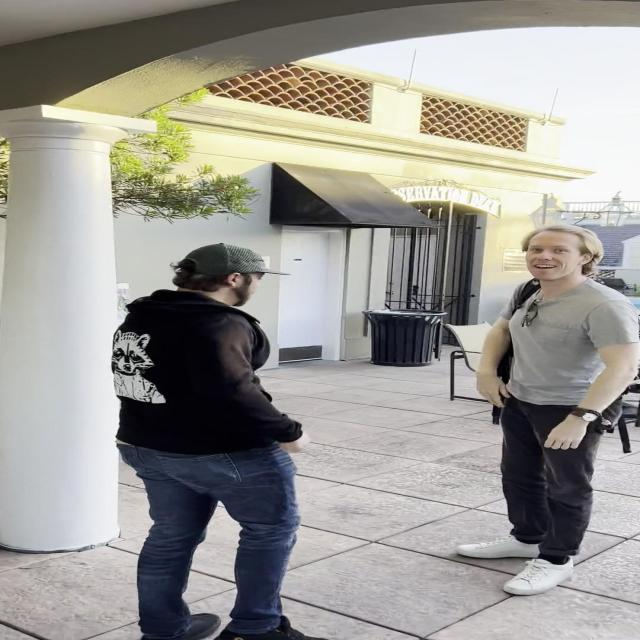NO-Mask: (524, 238, 582, 280), (232, 269, 264, 305)
